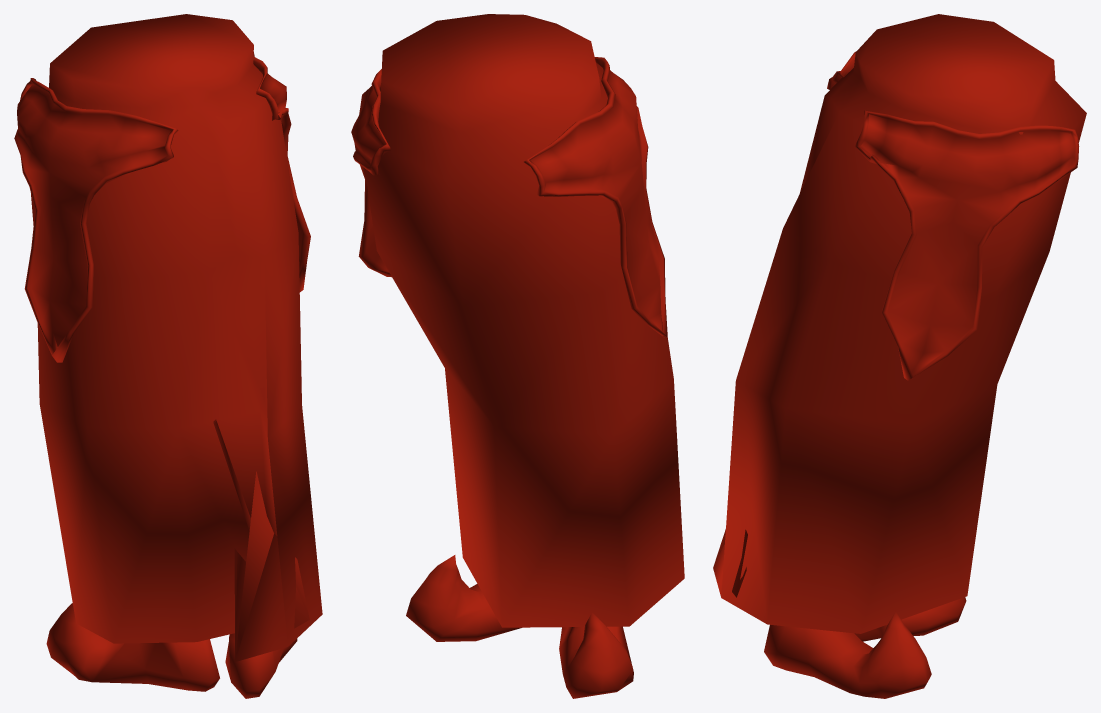
The model's file is bot_000095.obj.
3 renders of one model, left to right at view 1: azimuth 30°, elevation 25°; view 2: azimuth 150°, elevation 25°; view 3: azimuth 270°, elevation 25°, orthographic. The views are drawn at different scales.
Visible parts, largest first — view 1: LowPoly_Warlock.004_Plane.004; view 2: LowPoly_Warlock.004_Plane.004; view 3: LowPoly_Warlock.004_Plane.004.
Boxes of the visible parts, x1,y1,x2,y2 form: LowPoly_Warlock.004_Plane.004: (14, 14, 322, 698); LowPoly_Warlock.004_Plane.004: (351, 14, 684, 698); LowPoly_Warlock.004_Plane.004: (713, 14, 1086, 698).
Size of the model in its own units: 0.5133 by 1.12 by 0.6222.
